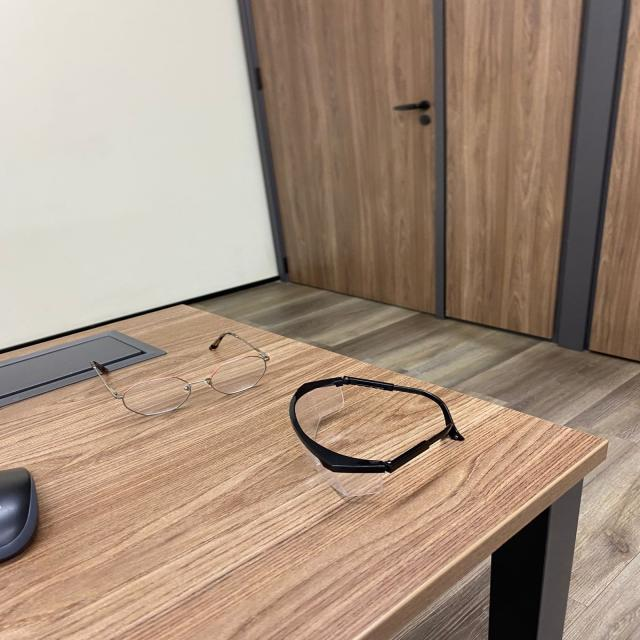oculos-epi: (289, 376, 464, 497)
sem_oculos: (91, 333, 267, 415)
